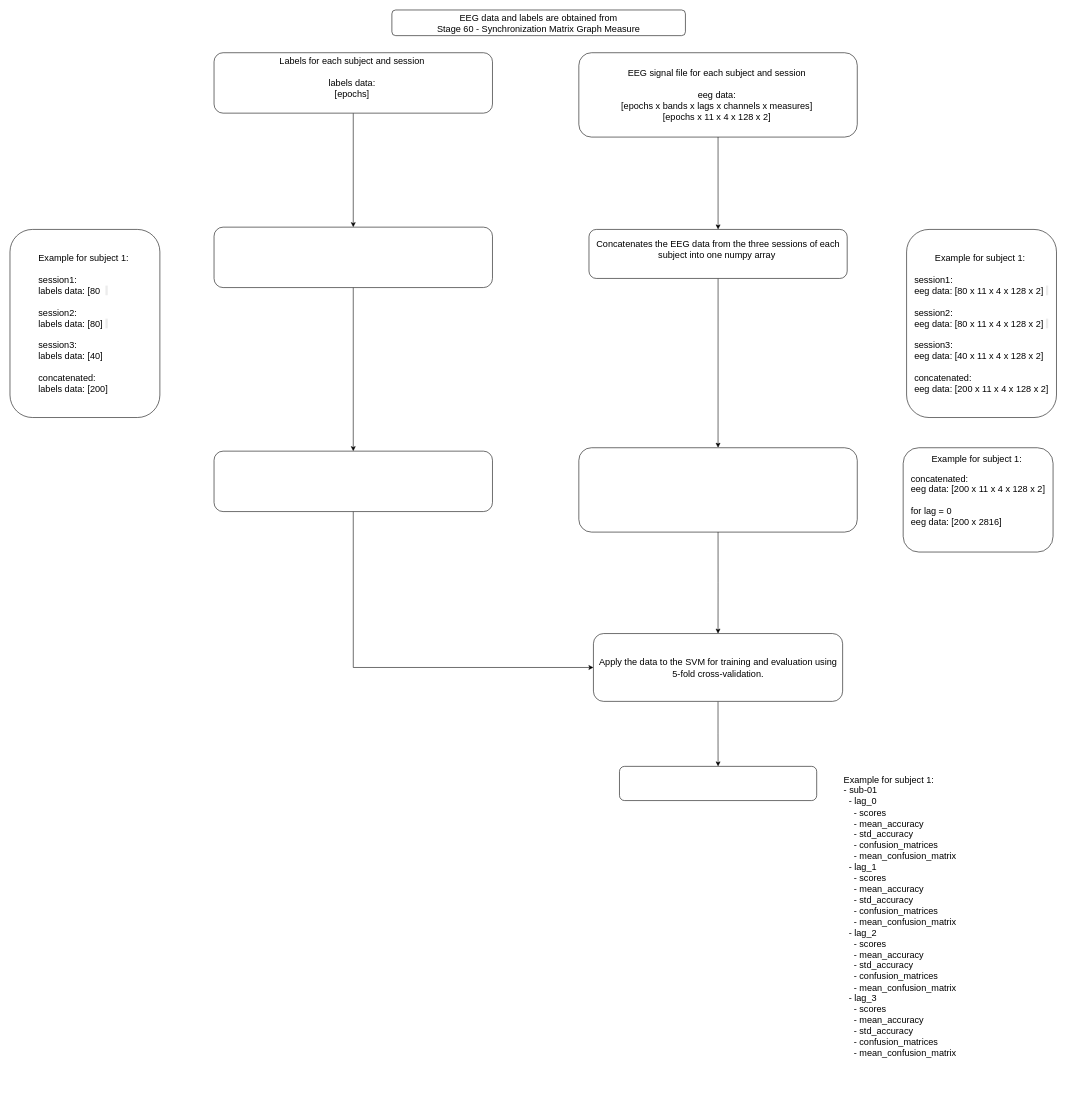
Some shapes in this 1066 by 1110 pixel diagram are drawn without their labels. Each missing label, with the centre of its shape:
"Concatenates labels for the three session fo each subject" goes at pixel 352 257.
"For each lag obtains feature matrix [epochs x features]" goes at pixel 717 489.
"For each lag obtains the labels for each subject and session" goes at pixel 352 481.
"Python dictionary with the results" goes at pixel 718 783.
